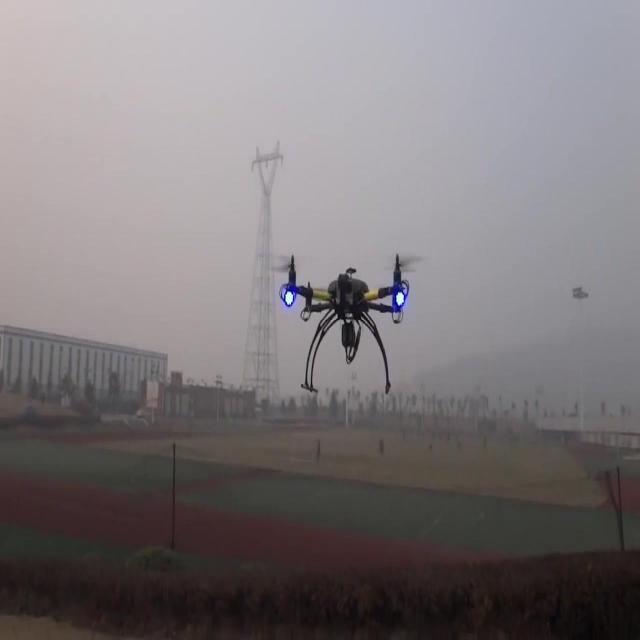UAV: (274, 254, 416, 394)
